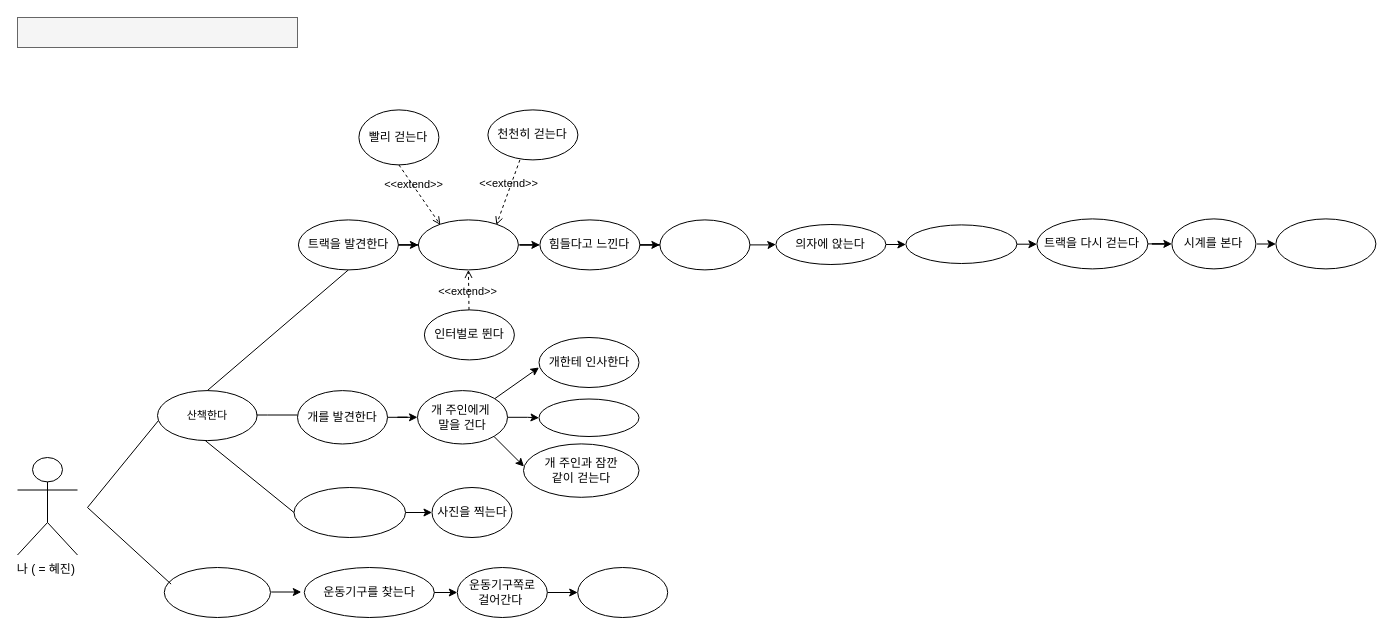
Image size: 1394x635. Some labels were removed from this diagram. Here are the shapes that lost their labels. From the top down, the centre of each, then its label:
point 157,32: 주제 : 천호공원에서 산책하고 운동한다
point 467,244: 트랙을 걷는다
point 704,244: 벤치로 걸어간다
point 961,244: 휴식을 취한다
point 1325,243: 산책을 종료한다
point 588,417: 개 사진 찍는다
point 349,512: 이쁜 꽃을 발견한다
point 216,592: 산책 후 운동한다
point 622,592: 운동기구로 운동한다
